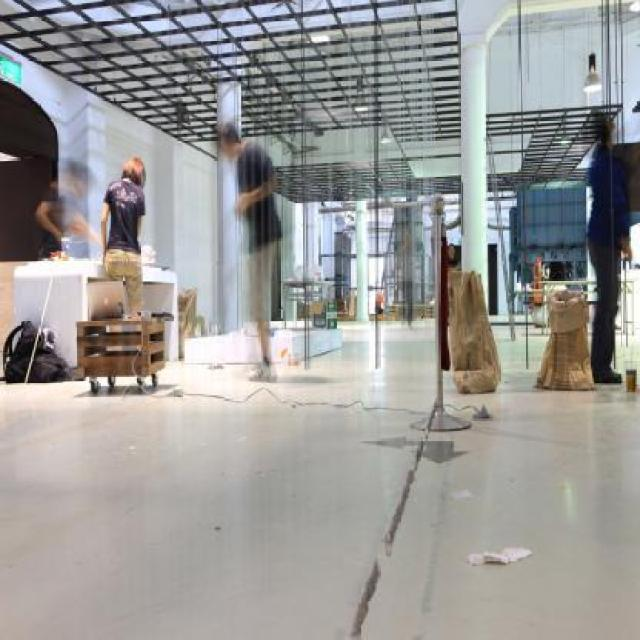Person: (217, 118, 283, 380), (586, 108, 631, 384), (92, 148, 148, 308)
